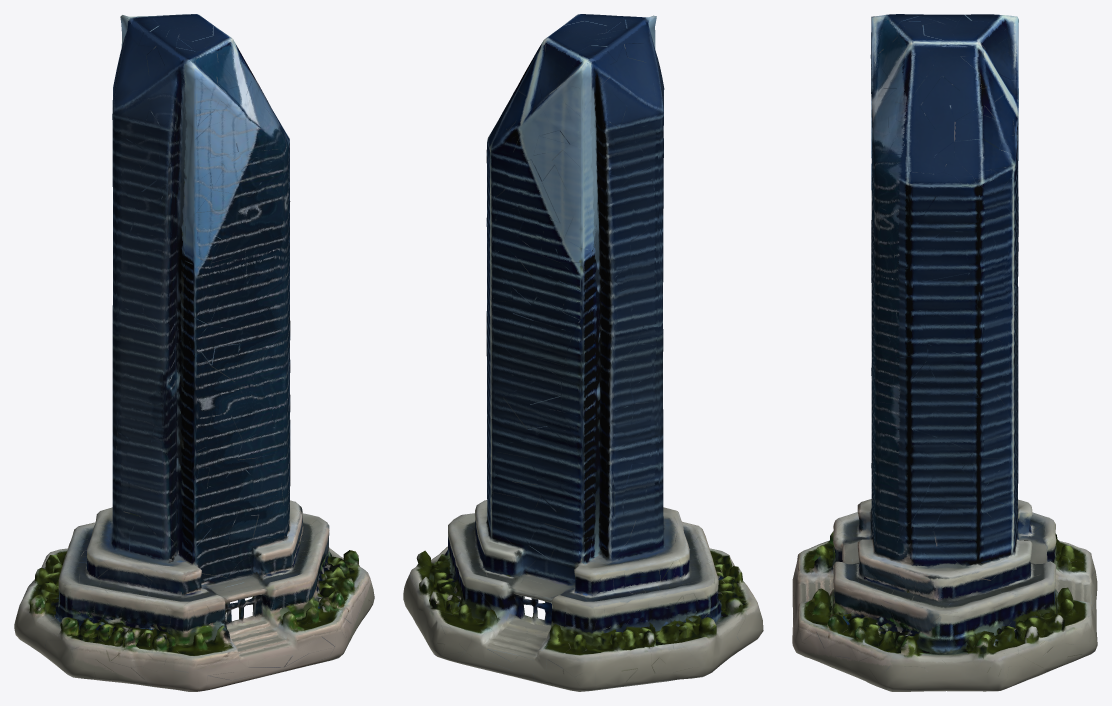
The model's file is fountain-place.glb.
The picture shows the model from 3 angles, left to right: view 1: azimuth 30°, elevation 25°; view 2: azimuth 150°, elevation 25°; view 3: azimuth 270°, elevation 25°; orthographic projection.
Visible parts, largest first — view 1: geometry_0; view 2: geometry_0; view 3: geometry_0.
Part boxes in pixels (box(x1,y1,x2,y2)): geometry_0: box(14, 14, 374, 691); geometry_0: box(403, 14, 763, 691); geometry_0: box(792, 14, 1097, 691).
Size of the model in its own units: 1.09 by 2 by 0.9378.
Materials: 1 (1 with a texture image).
